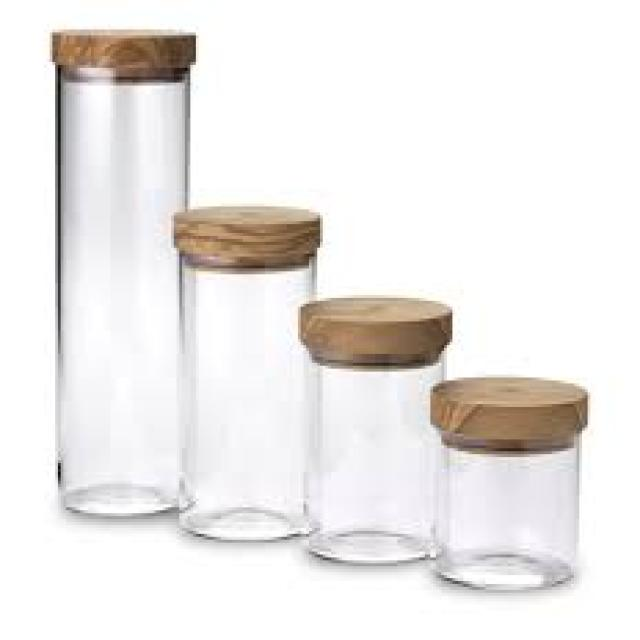glass: (55, 59, 185, 510), (174, 248, 314, 543), (301, 354, 441, 566), (433, 428, 577, 590)
